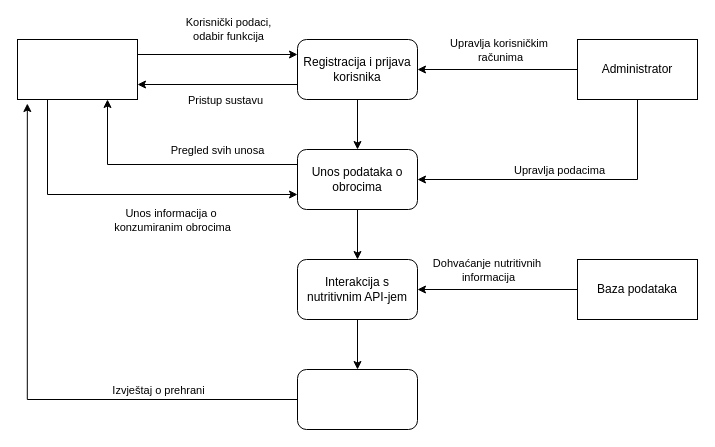
The diagram is 715 pixels wide and 447 high, and some of its shapes have lost their labels. Each missing label, with the box of its shape:
Korisnik: (16, 38, 138, 100)
Pregled i analiza dnevnika prehrane: (296, 368, 418, 430)
